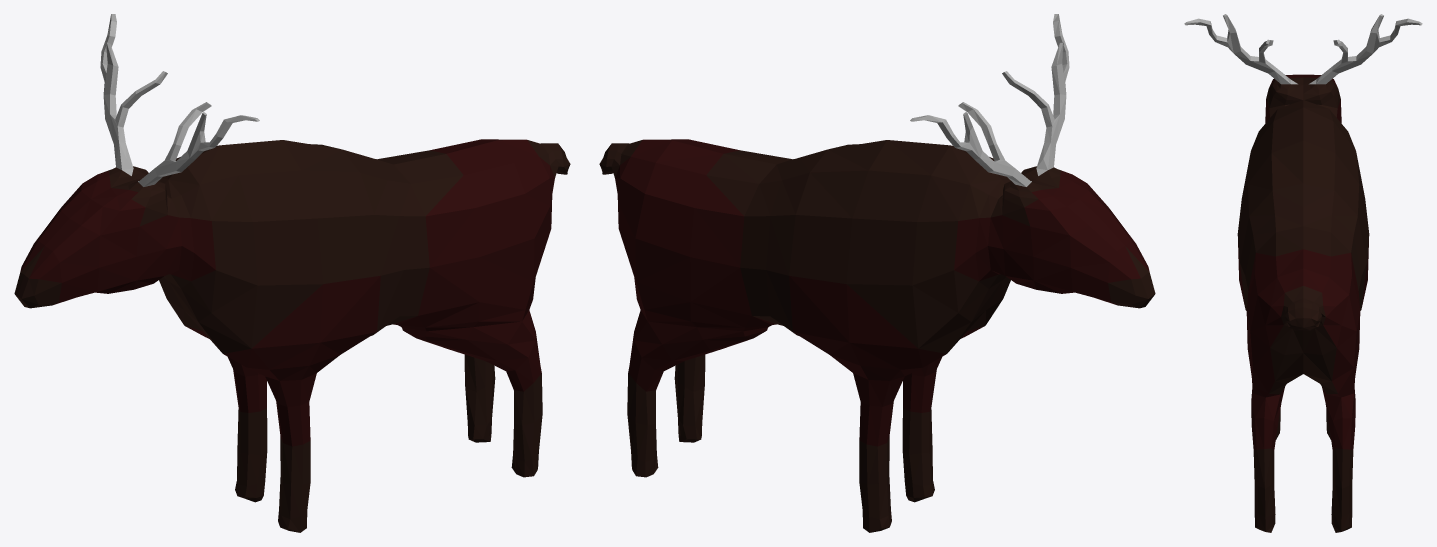
File: Moose.fbx
The picture shows the model from 3 angles, left to right: view 1: azimuth 30°, elevation 25°; view 2: azimuth 150°, elevation 25°; view 3: azimuth 270°, elevation 25°; orthographic projection. The views are drawn at different scales.
Parts seen in each view (by area): view 1: Cube; view 2: Cube; view 3: Cube.
Part boxes in pixels (x1,y1,x2,y2): Cube: (14,14,570,532); Cube: (599,14,1155,532); Cube: (1184,14,1422,532).
Bounding box in the file's own units: 860 × 705 × 400.
